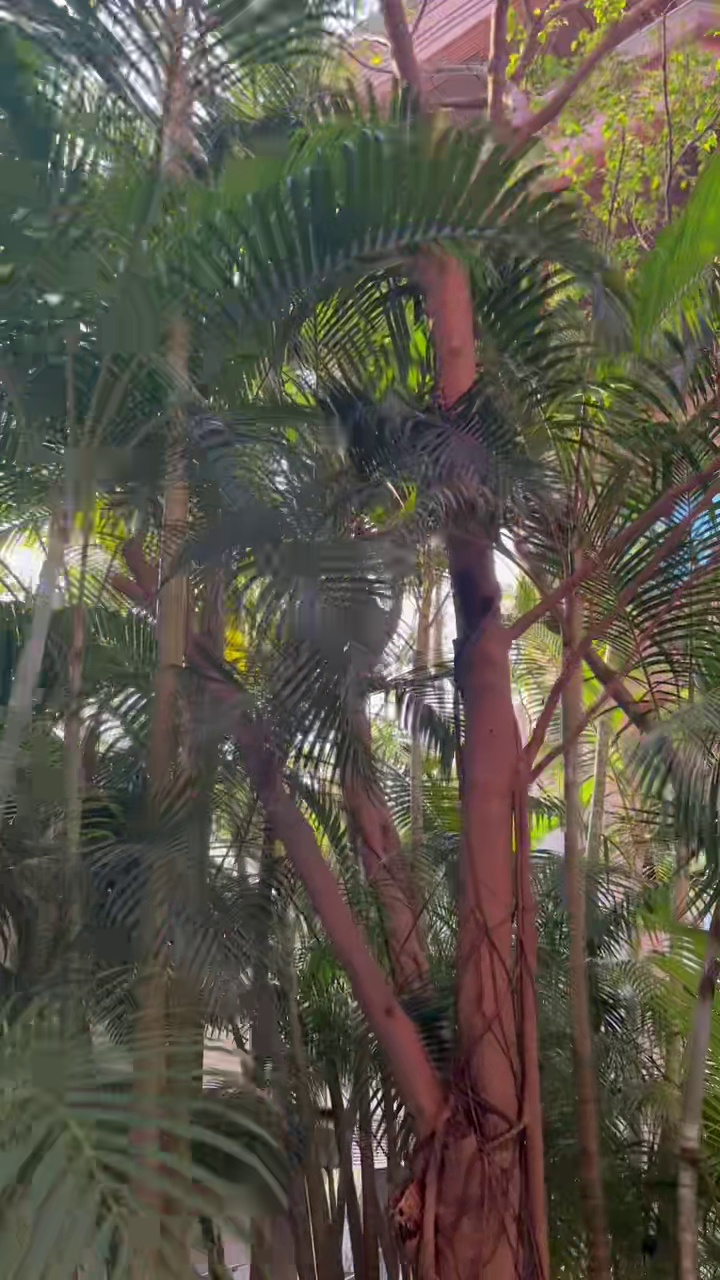Ficus benjamina: (245, 0, 639, 1279)
